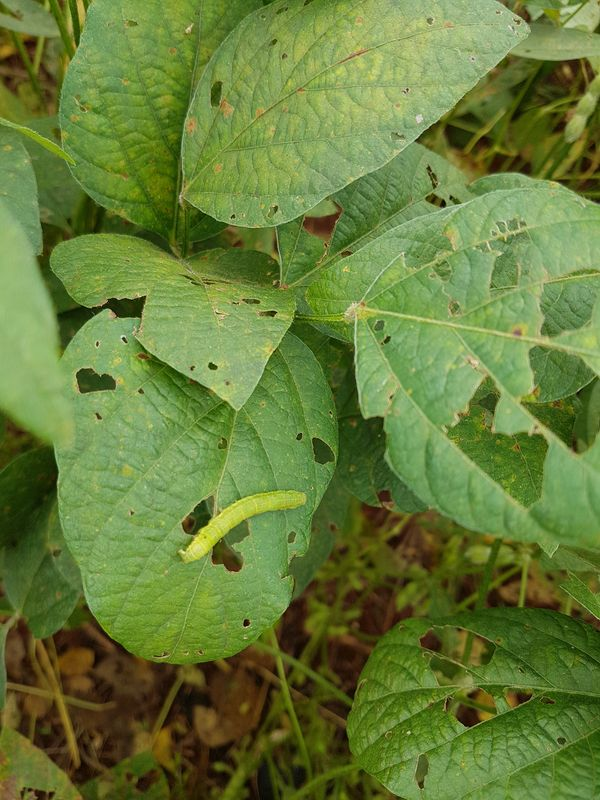Anticarsia_gemmatalis: (164, 474, 320, 588)
